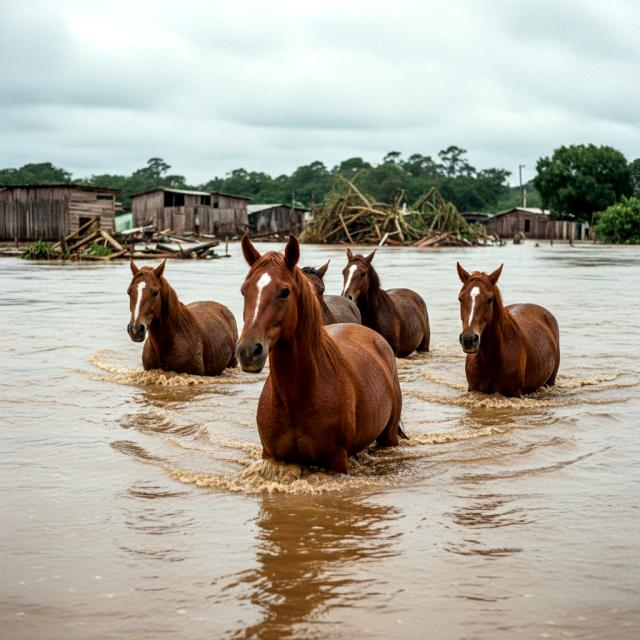horse: (231, 236, 414, 473), (452, 261, 570, 406), (121, 260, 241, 394), (341, 243, 439, 365), (299, 260, 365, 334)
